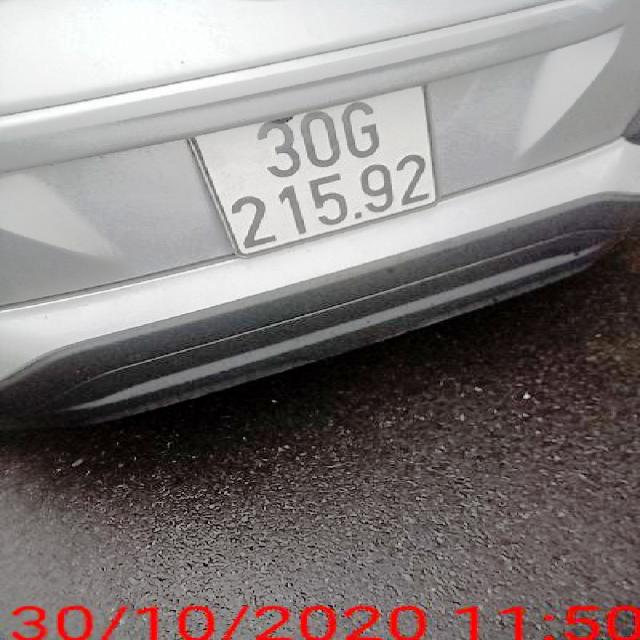license_plate: (186, 86, 442, 259)
